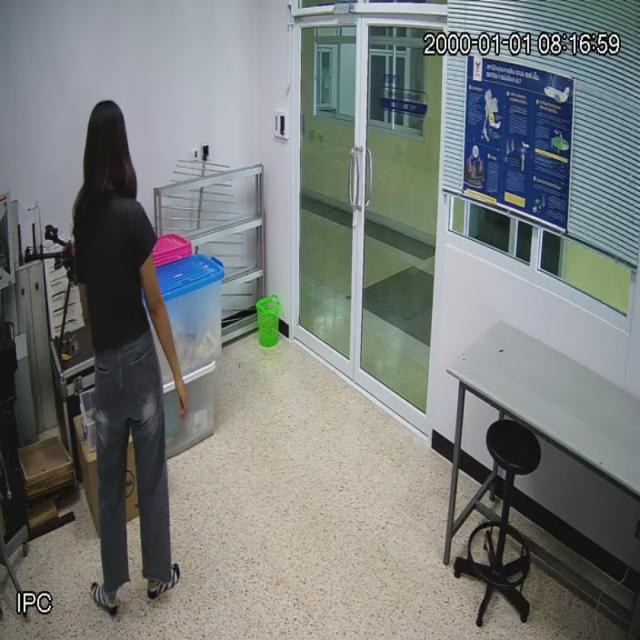normal: (66, 89, 190, 620)
